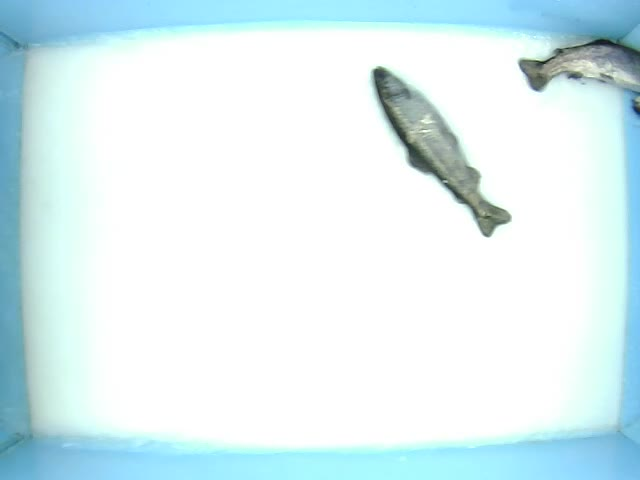fish: (364, 59, 516, 236), (518, 39, 640, 94)
